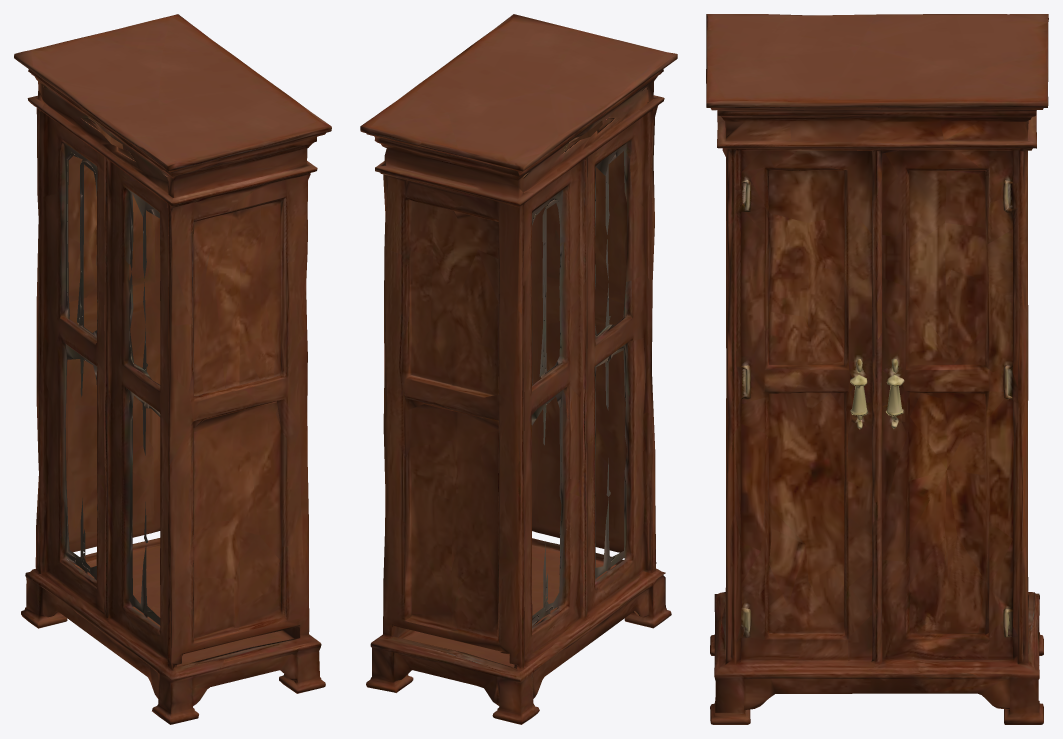
File: armario.glb
The picture shows the model from 3 angles, left to right: view 1: azimuth 30°, elevation 25°; view 2: azimuth 150°, elevation 25°; view 3: azimuth 270°, elevation 25°; orthographic projection. The views are drawn at different scales.
Parts seen in each view (by area): view 1: tripo_node_795bd656-86ab-48e2-8d92-548d37a102d5; view 2: tripo_node_795bd656-86ab-48e2-8d92-548d37a102d5; view 3: tripo_node_795bd656-86ab-48e2-8d92-548d37a102d5.
Part boxes in pixels (box(x1,y1,x2,y2)): tripo_node_795bd656-86ab-48e2-8d92-548d37a102d5: box(14, 14, 331, 724); tripo_node_795bd656-86ab-48e2-8d92-548d37a102d5: box(360, 14, 677, 724); tripo_node_795bd656-86ab-48e2-8d92-548d37a102d5: box(706, 14, 1048, 724).
Size of the model in its own units: 0.3053 by 1 by 0.4964.
Materials: 1 (1 with a texture image).
